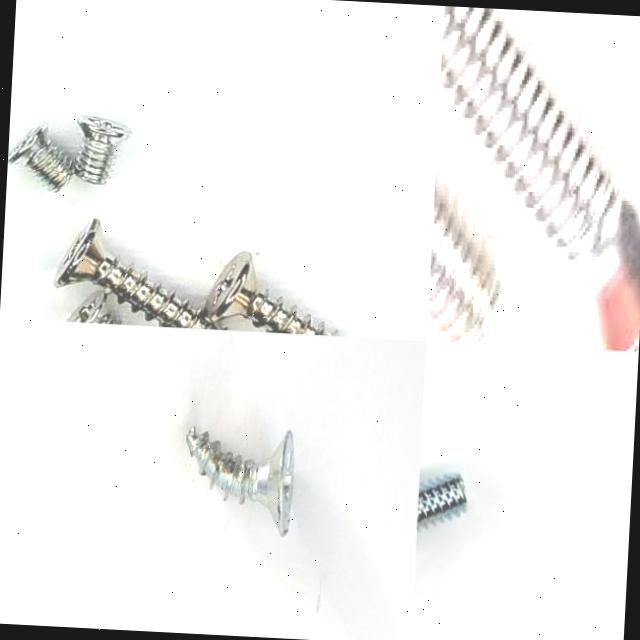Screw: (441, 6, 640, 352), (55, 220, 226, 330), (186, 428, 294, 538), (205, 253, 333, 336), (8, 125, 74, 193), (75, 115, 132, 185), (417, 475, 467, 530), (69, 292, 125, 325)
